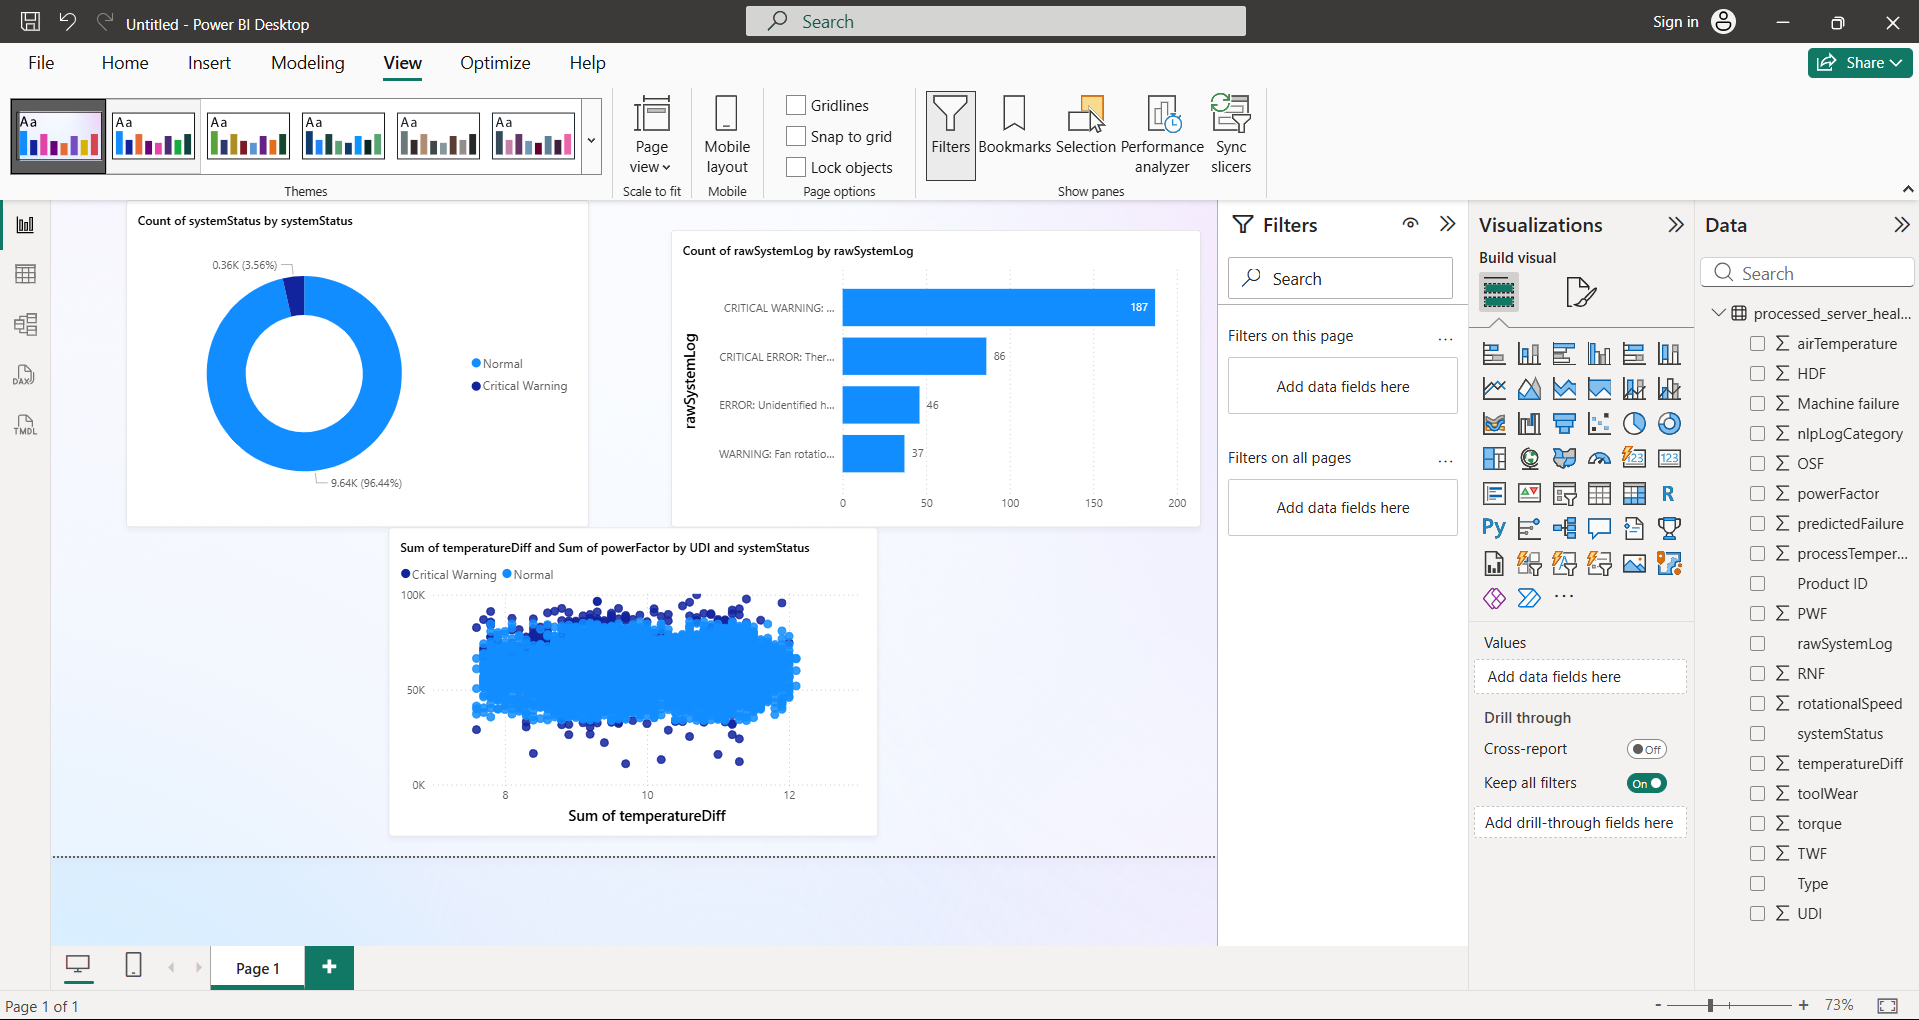

The page's visual inventory and layout, read from the dashboard file:
{"tool":"powerbi","page":{"name":"Page 1","canvas":[1280,720],"ordinal":0},"visuals":[{"type":"donutChart","fields":{"Category":["processed_server_health.systemStatus"],"Y":["CountNonNull(processed_server_health.systemStatus)"]},"box":[15.2,20.3,569.6,339.2],"z":0},{"type":"barChart","fields":{"Category":["processed_server_health.rawSystemLog"],"Y":["CountNonNull(processed_server_health.rawSystemLog)"]},"box":[688.6,20.3,586.1,339.2],"z":1000},{"type":"scatterChart","fields":{"X":["Sum(processed_server_health.temperatureDiff)"],"Y":["Sum(processed_server_health.powerFactor)"],"Series":["processed_server_health.systemStatus"],"Category":["processed_server_health.UDI"]},"box":[300,359.5,682.3,339.2],"z":1001}]}

Visuals, with their boxes on the page's 1280x720 design canvas (x1, y1, x2, y2). These are canvas units, not pixel positions in the 1919x1020 screenshot, which may show the page scaled, cropped or inside an application window:
donutChart - processed_server_health.systemStatus x CountNonNull(processed_server_health.systemStatus): {"left": 15, "top": 20, "right": 585, "bottom": 360}
barChart - processed_server_health.rawSystemLog x CountNonNull(processed_server_health.rawSystemLog): {"left": 689, "top": 20, "right": 1275, "bottom": 360}
scatterChart - Sum(processed_server_health.temperatureDiff) x Sum(processed_server_health.powerFactor): {"left": 300, "top": 360, "right": 982, "bottom": 699}
